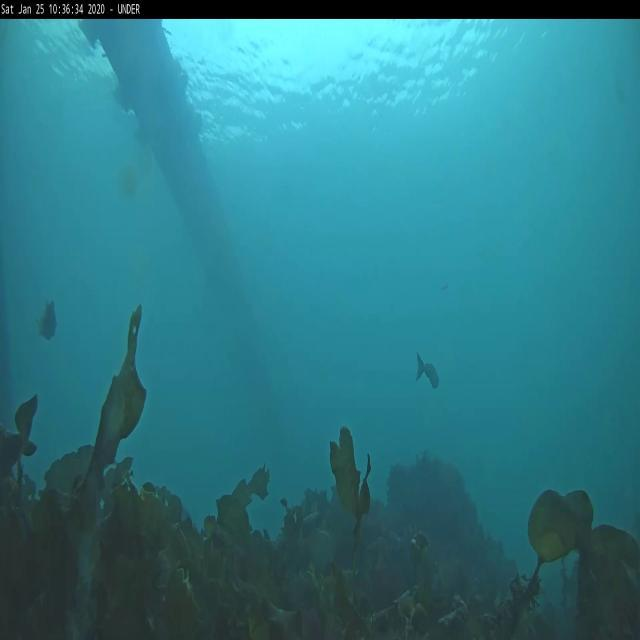fish: (418, 354, 440, 390)
